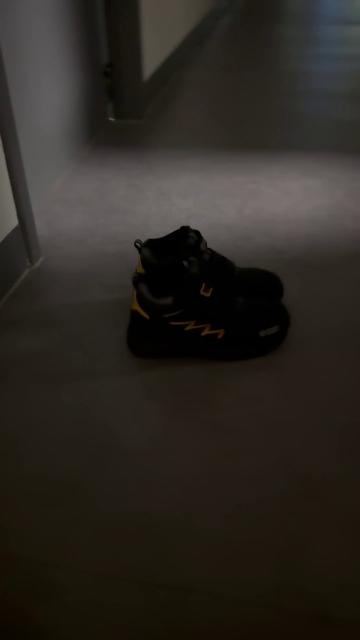shoe_worn: (132, 268, 290, 362), (129, 225, 287, 298)
